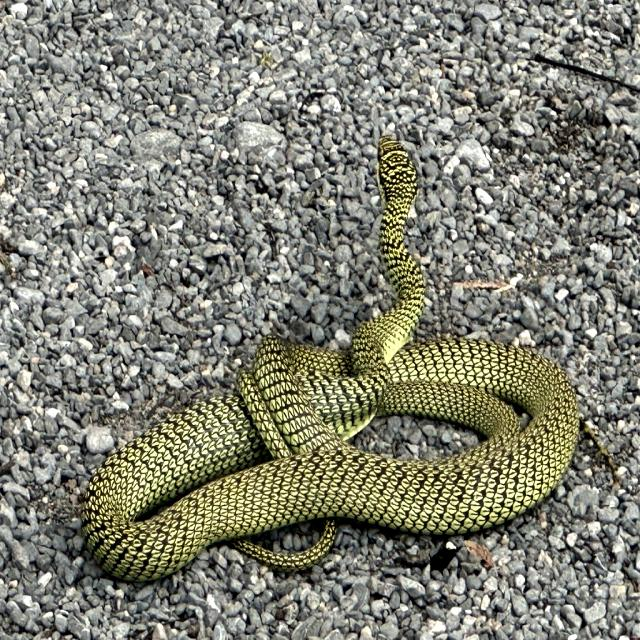Chrysopelea ornata: (82, 138, 578, 579)
